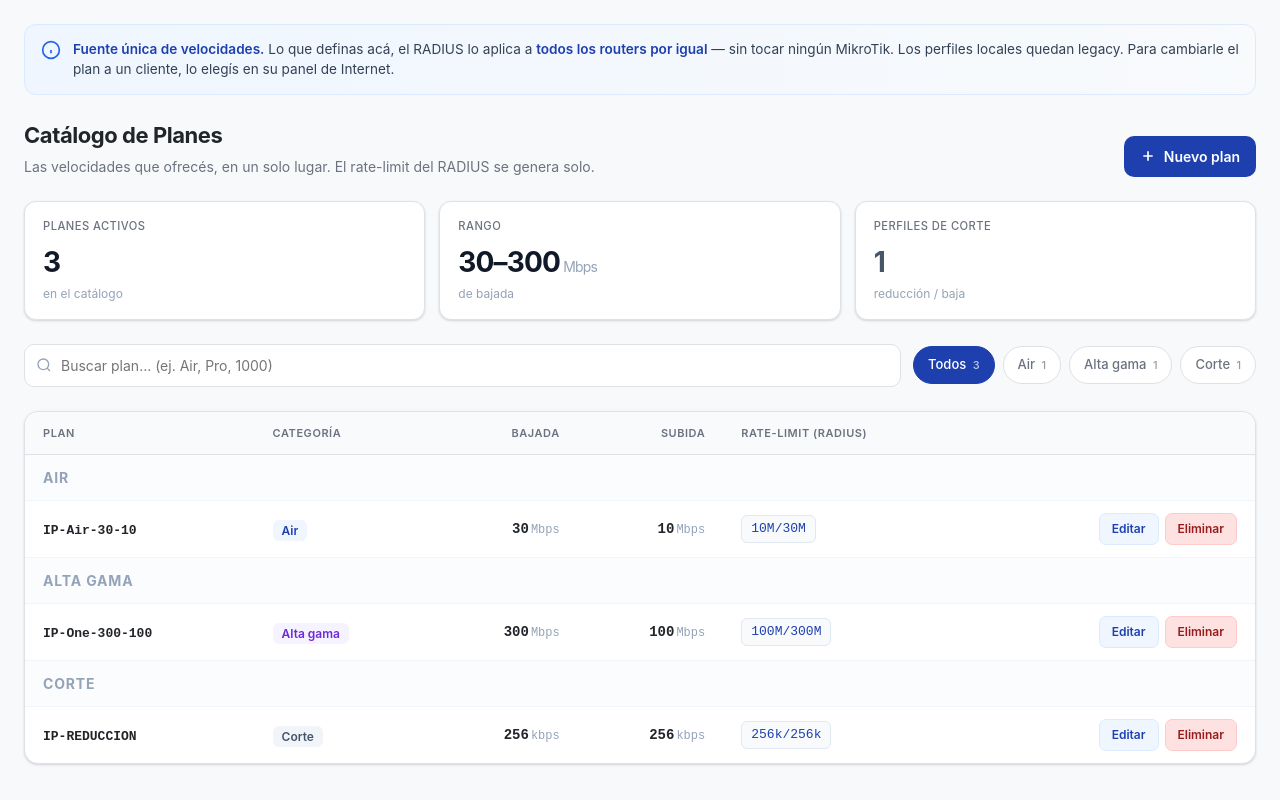
Test: PlansPage — create modal › opens create modal when clicking "Nuevo plan"
What coordinates should you click on to do the following:
click the button "Nuevo plan"
I would click on:
 (1190, 156)
Its box is [1124, 136, 1256, 177].
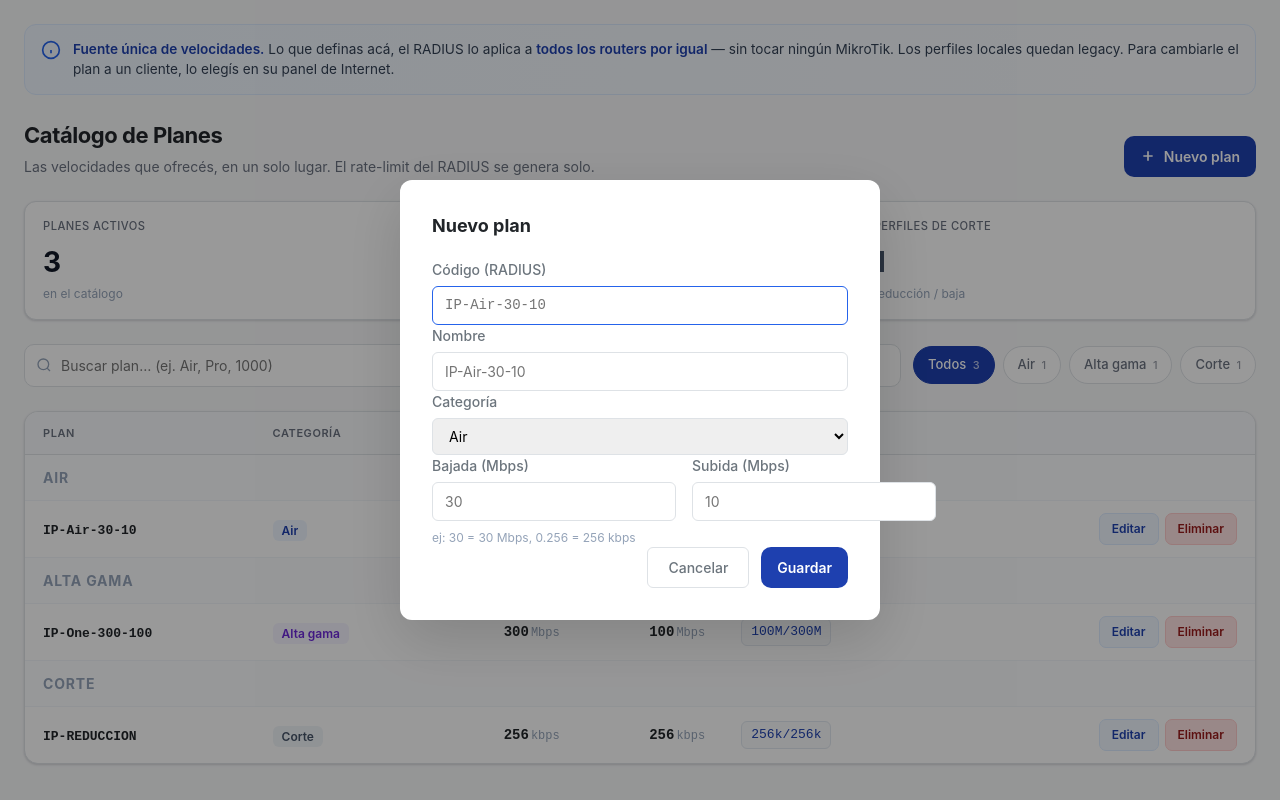
Check: the dialog "Nuevo plan" is shown
